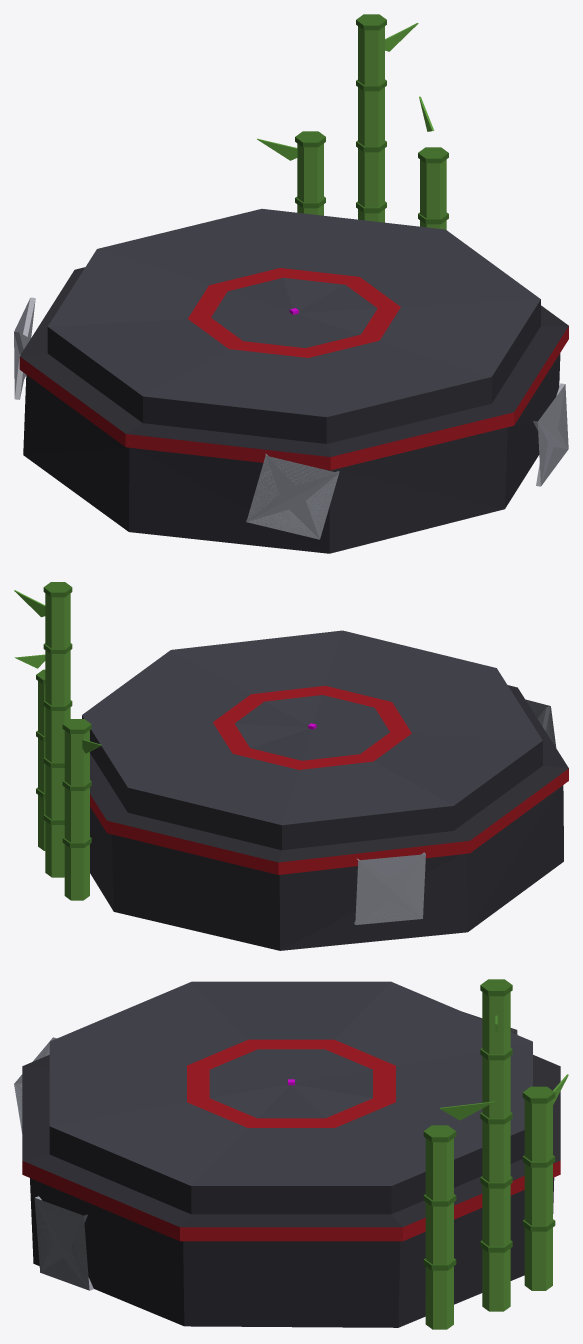
File: Platform_NinjaShiba.fbx
The picture shows the model from 3 angles, top to bottom: view 1: azimuth 30°, elevation 25°; view 2: azimuth 150°, elevation 25°; view 3: azimuth 270°, elevation 25°; orthographic projection. The views are drawn at different scales.
Visible parts, largest first — view 1: Body; view 2: Body; view 3: Body.
Part boxes in pixels (bbox=[...]): Body: bbox=[14, 14, 568, 553]; Body: bbox=[14, 582, 568, 950]; Body: bbox=[14, 979, 568, 1329].
Bounding box in the file's own units: 7.63 × 5.04 × 7.85.
